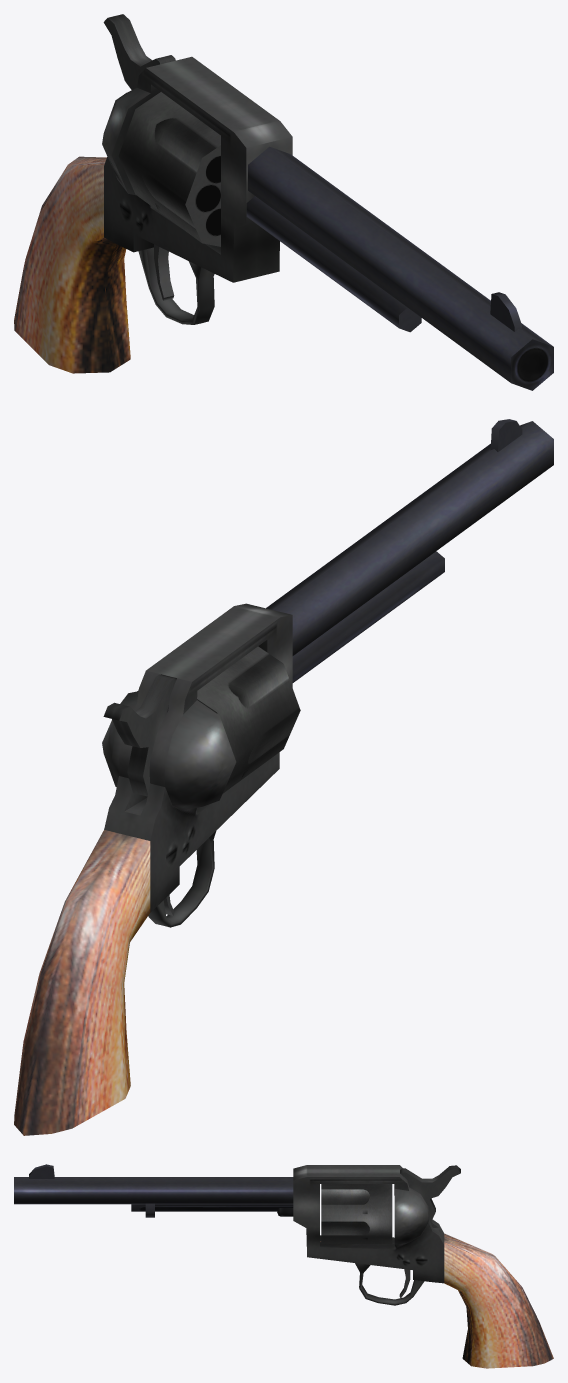
File: revolver.fbx
The picture shows the model from 3 angles, top to bottom: view 1: azimuth 30°, elevation 25°; view 2: azimuth 150°, elevation 25°; view 3: azimuth 270°, elevation 25°; orthographic projection. The views are drawn at different scales.
Visible parts, largest first — view 1: Colt, Cylinder, Hammer, Colt.001, Trigger; view 2: Colt, Cylinder, Hammer; view 3: Colt, Cylinder, Hammer, Colt.001.
Part boxes in pixels (bbox=[...]): Colt: bbox=[14, 56, 553, 390]; Cylinder: bbox=[118, 92, 220, 246]; Hammer: bbox=[103, 14, 175, 89]; Colt.001: bbox=[490, 292, 521, 331]; Trigger: bbox=[154, 244, 174, 300]; Colt: bbox=[14, 421, 553, 1135]; Cylinder: bbox=[137, 646, 300, 793]; Hammer: bbox=[103, 674, 175, 796]; Colt: bbox=[14, 1165, 553, 1368]; Cylinder: bbox=[321, 1184, 392, 1243]; Hammer: bbox=[400, 1165, 460, 1222]; Colt.001: bbox=[29, 1164, 54, 1178].
Size of the model in its own units: 6.49 by 18.08 by 45.77.
